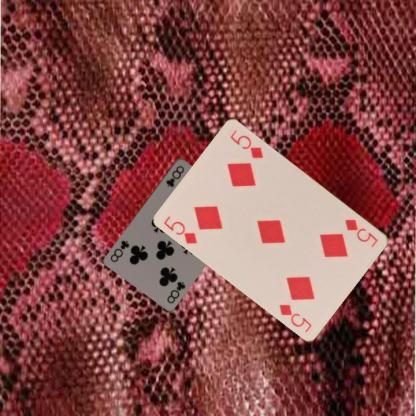5d: (342, 216, 380, 249), (161, 213, 199, 246)
8c: (163, 278, 188, 304), (163, 162, 185, 189)
